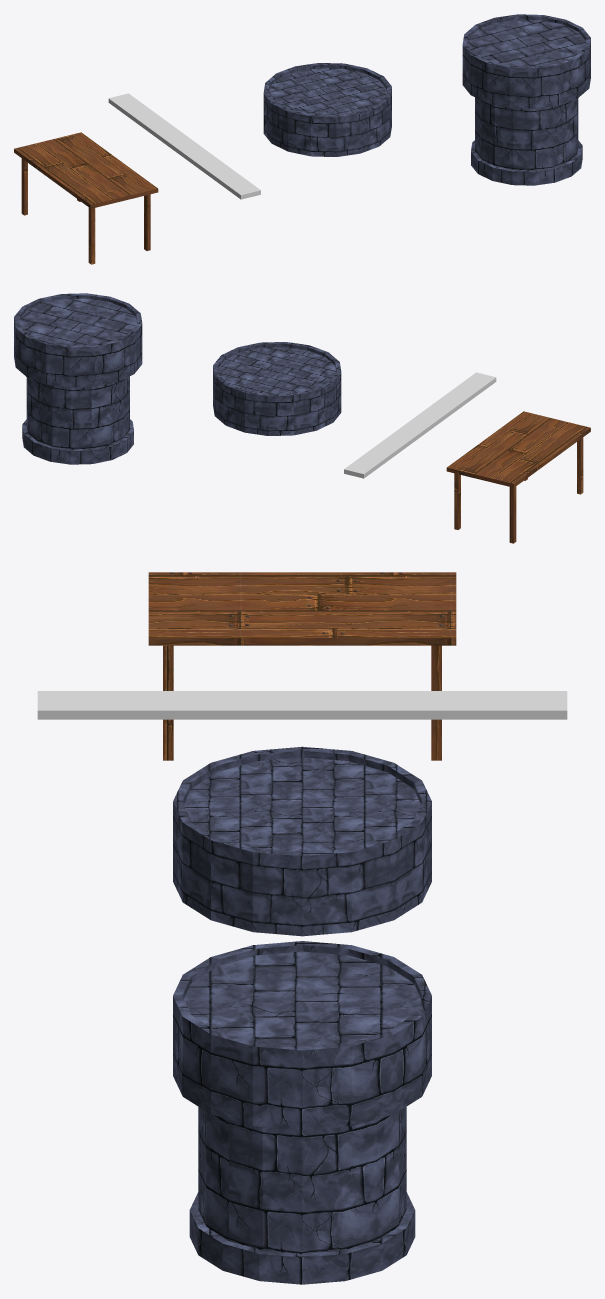
File: обьекты 2.fbx
The picture shows the model from 3 angles, top to bottom: view 1: azimuth 30°, elevation 25°; view 2: azimuth 150°, elevation 25°; view 3: azimuth 270°, elevation 25°; orthographic projection. The views are drawn at different scales.
Visible parts, largest first — view 1: столб для огня, цилиндр для огня, стол, на все случаи жизни; view 2: столб для огня, цилиндр для огня, стол, на все случаи жизни; view 3: столб для огня, цилиндр для огня, стол, на все случаи жизни.
Boxes of the visible parts, <box> form: столб для огня: <box>462,14,590,185</box>; цилиндр для огня: <box>263,63,391,156</box>; стол: <box>14,132,158,264</box>; на все случаи жизни: <box>108,93,260,199</box>; столб для огня: <box>14,293,142,464</box>; цилиндр для огня: <box>213,342,341,435</box>; стол: <box>446,411,590,543</box>; на все случаи жизни: <box>344,372,496,478</box>; столб для огня: <box>173,941,431,1284</box>; цилиндр для огня: <box>173,746,431,936</box>; стол: <box>148,572,456,760</box>; на все случаи жизни: <box>37,691,567,719</box>.
Size of the model in its own units: 5258 by 1143 by 2274.
